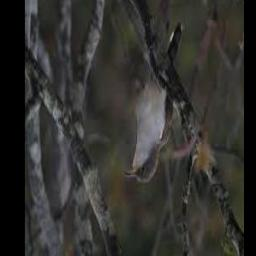Cuckoo: (123, 20, 185, 183)
